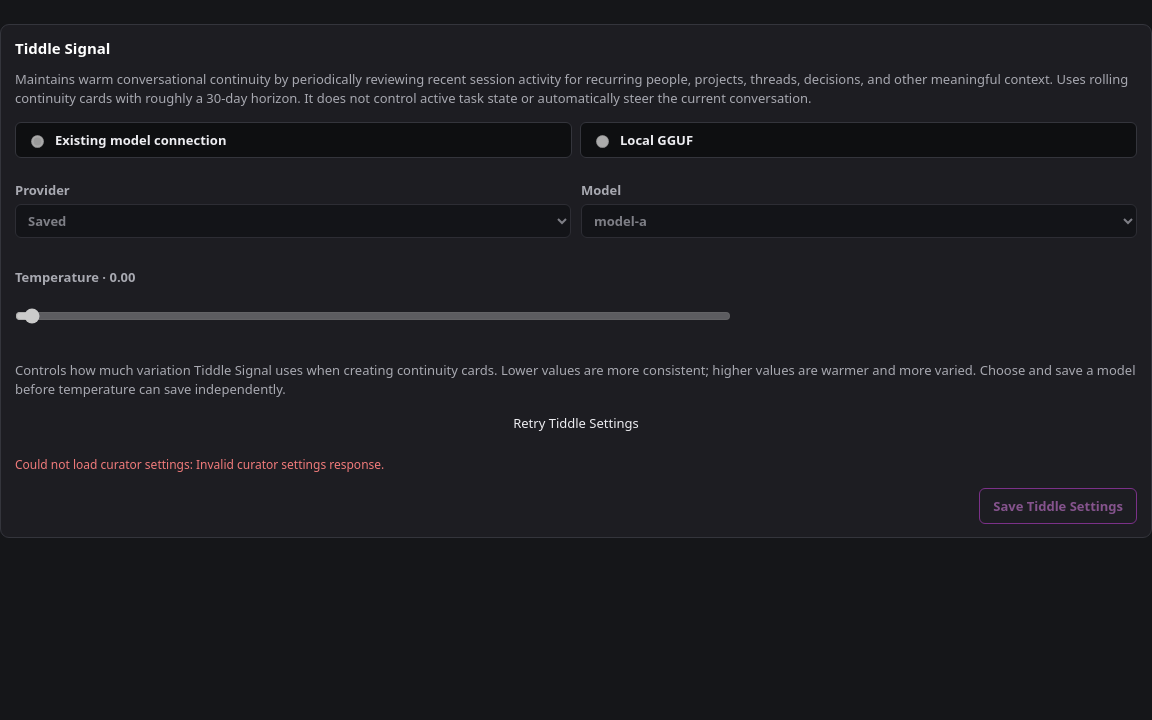
Scenario: fails closed on a missing selection read and retries the actual saved selection
Expected: the text "Could not load curator settings: Invalid curator settings response." is shown, [15, 456, 384, 473]
Expected: the slider is disabled, [15, 299, 731, 333]
Click the button "Retry Tiddle Settings". click: (576, 423)
box: [15, 413, 1137, 433]
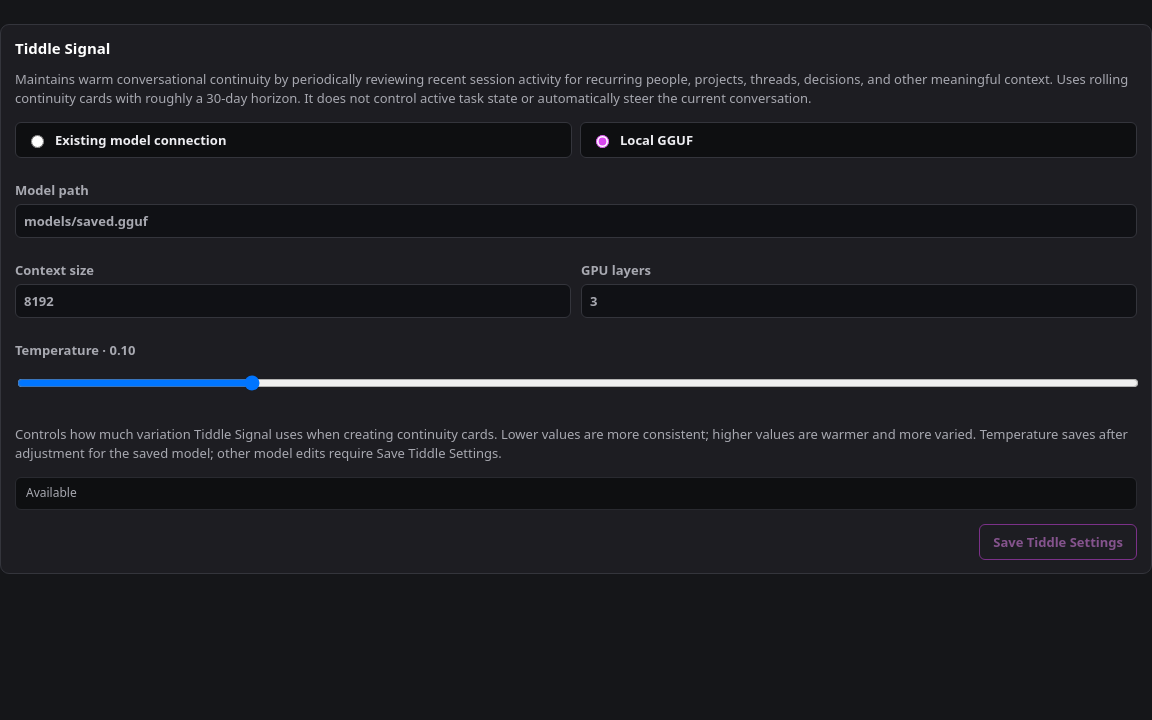
Expected: the slider is enabled, [17, 366, 1139, 400]
Expected: the field labelled "Model path" holds "models/saved.gguf", [15, 204, 1137, 238]
Expected: the slider holds "0.1", [17, 366, 1139, 400]
